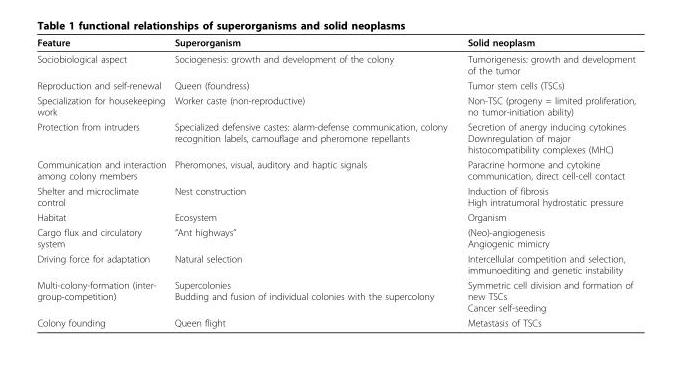table: (36, 36, 635, 327)
table column: (169, 36, 456, 327), (456, 36, 635, 327), (36, 36, 169, 327)
table column header: (36, 36, 635, 50)
table row: (36, 118, 635, 156), (36, 277, 635, 314), (36, 50, 635, 77), (36, 156, 635, 183), (36, 250, 635, 277), (36, 92, 635, 118), (36, 183, 635, 209), (36, 224, 635, 250), (36, 77, 635, 92), (36, 209, 635, 224), (36, 36, 635, 50), (36, 314, 635, 327)
